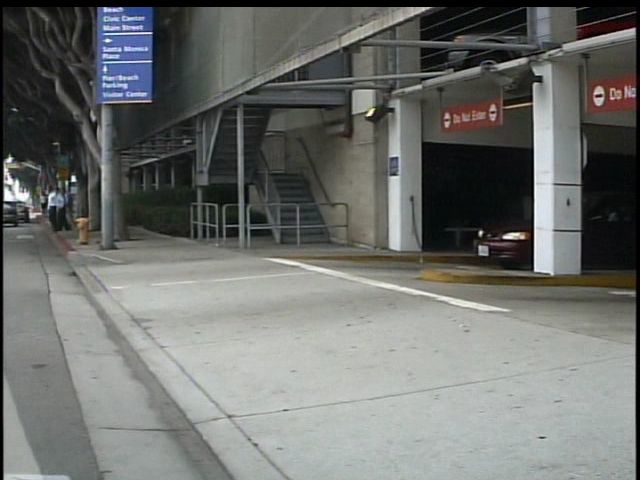person: (41, 186, 58, 220)
